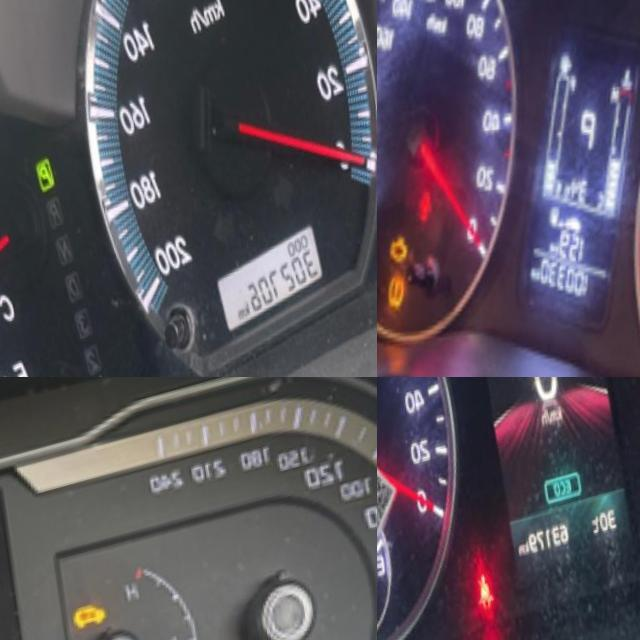Doors: (400, 190, 429, 235)
Seat Belt: (454, 570, 482, 640)
